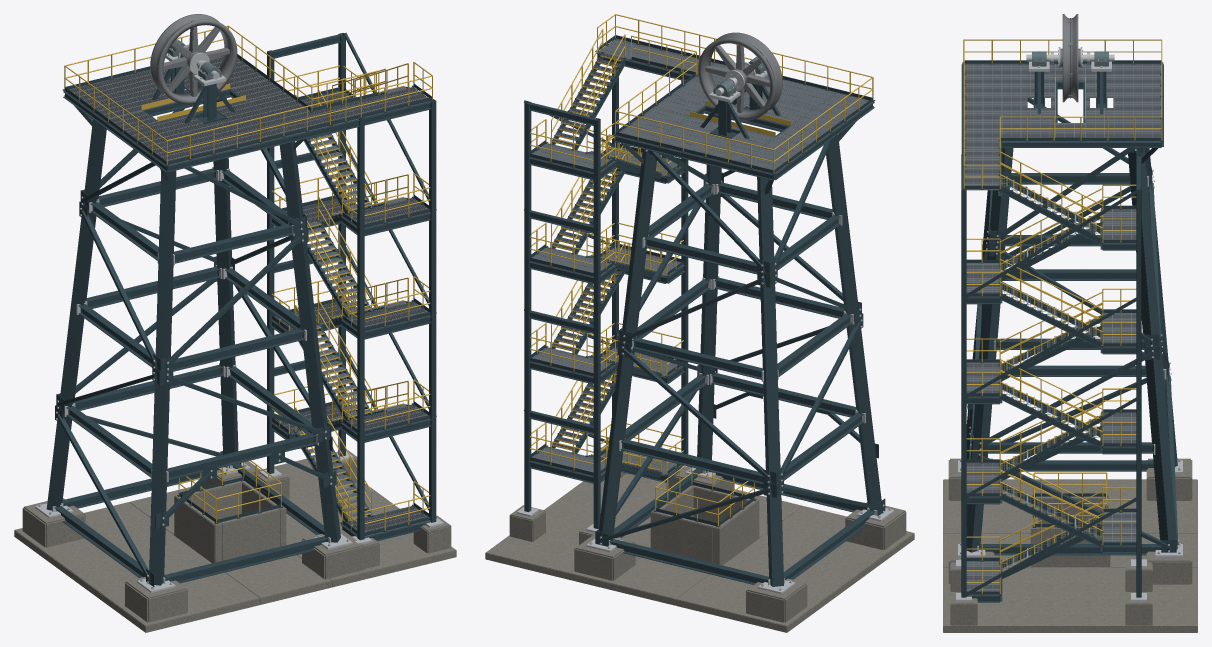
The model's file is mine-headframe.glb.
3 renders of one model, left to right at view 1: azimuth 30°, elevation 25°; view 2: azimuth 150°, elevation 25°; view 3: azimuth 270°, elevation 25°, orthographic. The views are drawn at different scales.
Visible parts, largest first — view 1: frame__Painted_structural_steel, foundation__Foundation_concrete, stairs__Painted_structural_steel, platform__Galvanized_grating, stairs__Galvanized_grating, stairs__Safety_ochre_coating, platform__Painted_structural_steel, sheave__Cast_sheave_steel, platform__Safety_ochre_coating, bearings__Painted_structural_steel, foundation__Machined_shaft_and_fasteners, foundation__Safety_ochre_coating (+2 smaller); view 2: frame__Painted_structural_steel, foundation__Foundation_concrete, stairs__Painted_structural_steel, stairs__Galvanized_grating, platform__Galvanized_grating, stairs__Safety_ochre_coating, platform__Painted_structural_steel, sheave__Cast_sheave_steel, platform__Safety_ochre_coating, bearings__Painted_structural_steel, foundation__Machined_shaft_and_fasteners, foundation__Safety_ochre_coating (+2 smaller); view 3: foundation__Foundation_concrete, frame__Painted_structural_steel, stairs__Painted_structural_steel, platform__Galvanized_grating, stairs__Galvanized_grating, stairs__Safety_ochre_coating, platform__Painted_structural_steel, platform__Safety_ochre_coating, sheave__Cast_sheave_steel, foundation__Machined_shaft_and_fasteners, bearings__Painted_structural_steel, foundation__Safety_ochre_coating (+2 smaller).
Part boxes in pixels (x1=…): frame__Painted_structural_steel: x1=46, y1=88, x2=340, y2=586; foundation__Foundation_concrete: x1=14, y1=450, x2=456, y2=632; stairs__Painted_structural_steel: x1=267, y1=32, x2=436, y2=541; platform__Galvanized_grating: x1=65, y1=56, x2=359, y2=165; stairs__Galvanized_grating: x1=272, y1=86, x2=431, y2=536; stairs__Safety_ochre_coating: x1=271, y1=62, x2=432, y2=530; platform__Painted_structural_steel: x1=62, y1=48, x2=430, y2=180; sheave__Cast_sheave_steel: x1=150, y1=14, x2=237, y2=104; platform__Safety_ochre_coating: x1=64, y1=25, x2=361, y2=164; bearings__Painted_structural_steel: x1=151, y1=67, x2=234, y2=124; foundation__Machined_shaft_and_fasteners: x1=35, y1=451, x2=443, y2=592; foundation__Safety_ochre_coating: x1=178, y1=460, x2=281, y2=522; frame__Painted_structural_steel: x1=595, y1=104, x2=885, y2=586; foundation__Foundation_concrete: x1=485, y1=445, x2=914, y2=632; stairs__Painted_structural_steel: x1=524, y1=35, x2=688, y2=528; stairs__Galvanized_grating: x1=531, y1=39, x2=683, y2=476; platform__Galvanized_grating: x1=616, y1=55, x2=872, y2=173; stairs__Safety_ochre_coating: x1=530, y1=14, x2=684, y2=474; platform__Painted_structural_steel: x1=596, y1=52, x2=875, y2=194; sheave__Cast_sheave_steel: x1=698, y1=32, x2=782, y2=120; platform__Safety_ochre_coating: x1=615, y1=31, x2=873, y2=173; bearings__Painted_structural_steel: x1=700, y1=84, x2=781, y2=139; foundation__Machined_shaft_and_fasteners: x1=517, y1=445, x2=894, y2=593; foundation__Safety_ochre_coating: x1=655, y1=465, x2=754, y2=526; foundation__Foundation_concrete: x1=943, y1=458, x2=1197, y2=632; frame__Painted_structural_steel: x1=966, y1=88, x2=1178, y2=555; stairs__Painted_structural_steel: x1=961, y1=154, x2=1141, y2=602; platform__Galvanized_grating: x1=964, y1=63, x2=1161, y2=155; stairs__Galvanized_grating: x1=964, y1=155, x2=1136, y2=595; stairs__Safety_ochre_coating: x1=963, y1=131, x2=1136, y2=594; platform__Painted_structural_steel: x1=961, y1=60, x2=1163, y2=196; platform__Safety_ochre_coating: x1=963, y1=39, x2=1162, y2=140; sheave__Cast_sheave_steel: x1=1060, y1=14, x2=1080, y2=102; foundation__Machined_shaft_and_fasteners: x1=956, y1=459, x2=1182, y2=601; bearings__Painted_structural_steel: x1=1033, y1=71, x2=1107, y2=114; foundation__Safety_ochre_coating: x1=1033, y1=472, x2=1107, y2=526.
Bounding box in the file's own units: 9.15 × 15.76 × 6.7.
Materials: 9 (3 with a texture image).
